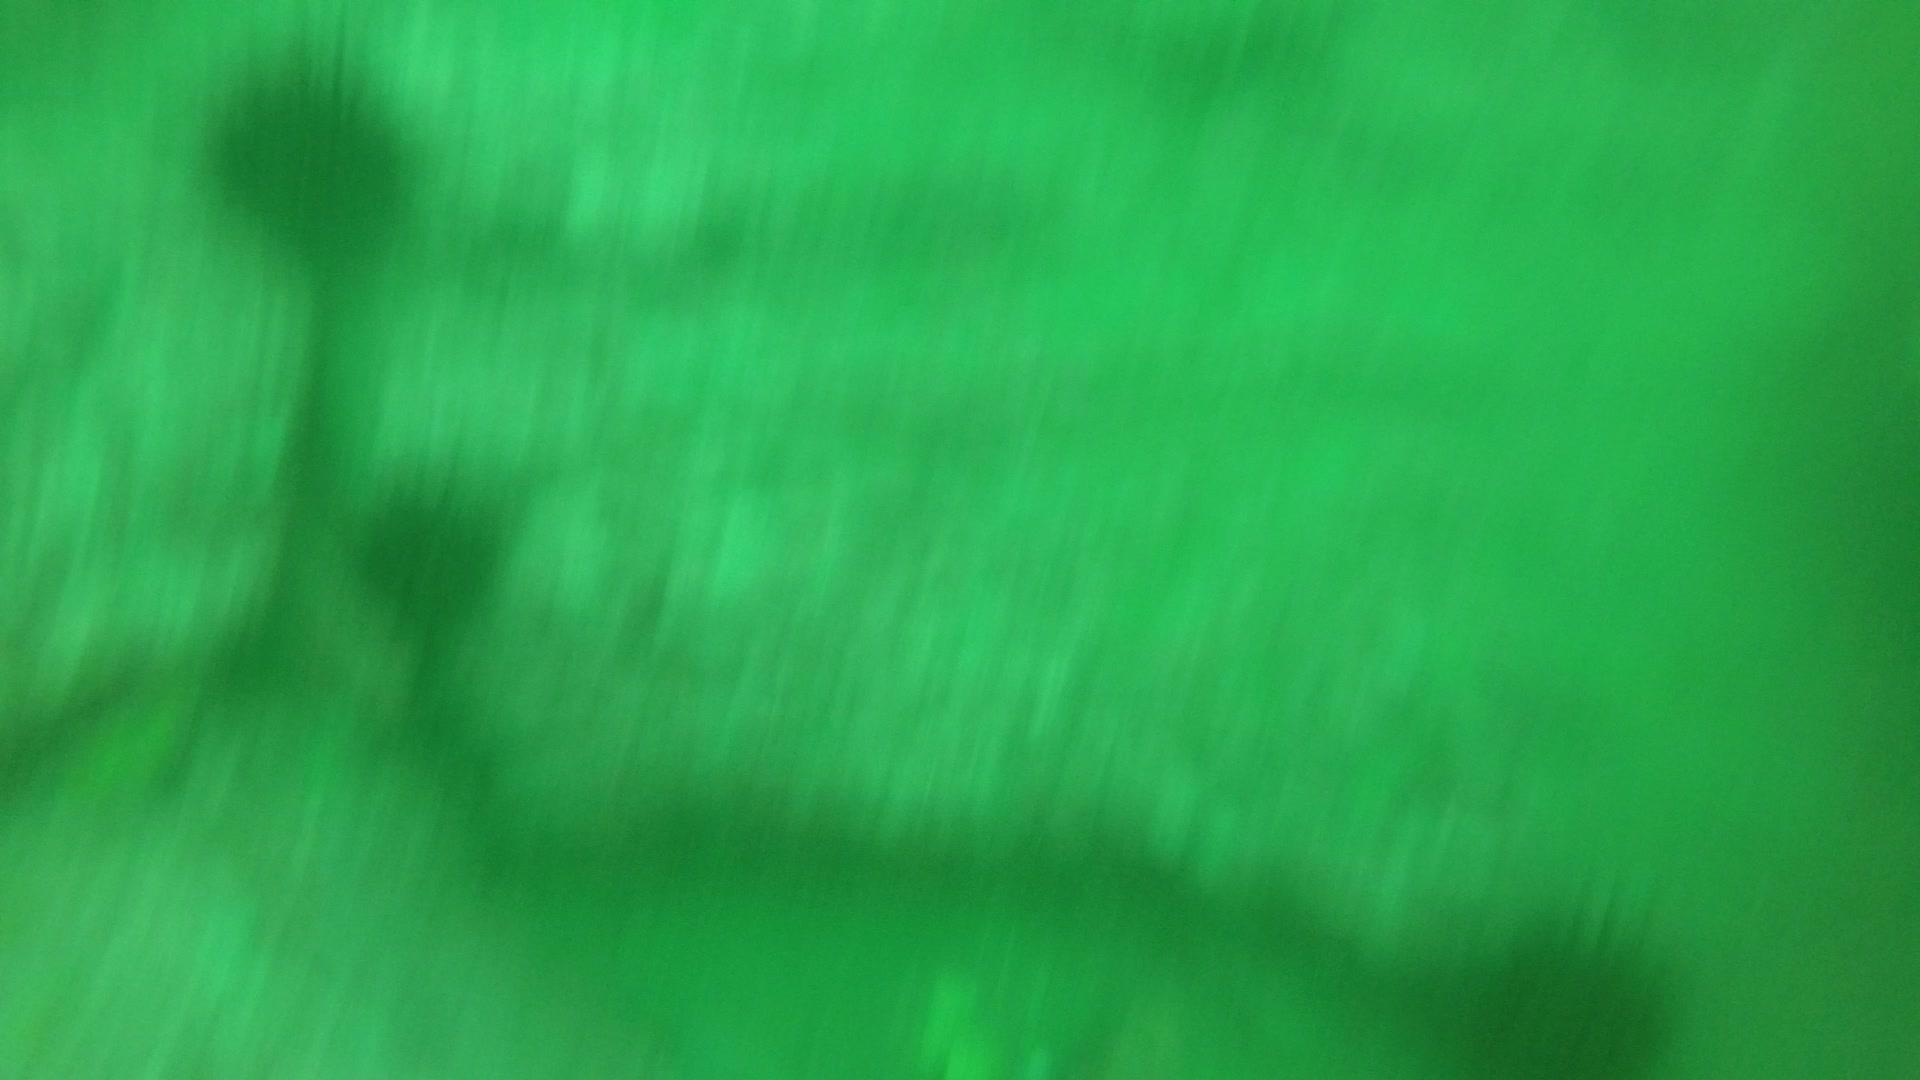echinus: (195, 50, 425, 276), (1418, 893, 1695, 1077), (345, 472, 512, 633)
